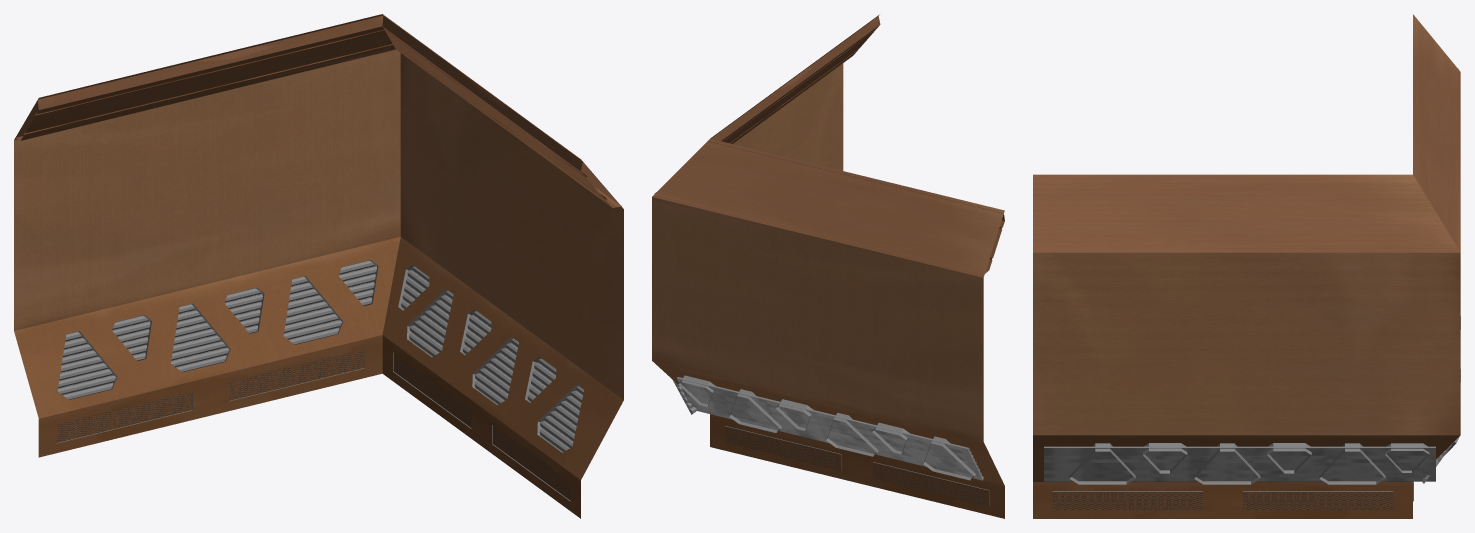
File: interior_wall_corner.obj
The picture shows the model from 3 angles, left to right: view 1: azimuth 30°, elevation 25°; view 2: azimuth 150°, elevation 25°; view 3: azimuth 270°, elevation 25°; orthographic projection. The views are drawn at different scales.
Parts seen in each view (by area): view 1: Plane, Cylinder.001; view 2: Plane, Cylinder.001; view 3: Plane, Cylinder.001.
Part boxes in pixels (box(x1,y1,x2,y2)): Plane: box(14, 14, 623, 518); Cylinder.001: box(57, 261, 583, 452); Plane: box(652, 14, 1004, 518); Cylinder.001: box(673, 377, 983, 480); Plane: box(1033, 14, 1460, 518); Cylinder.001: box(1044, 441, 1454, 483).
Size of the model in its own units: 4.5 by 4 by 4.5.
